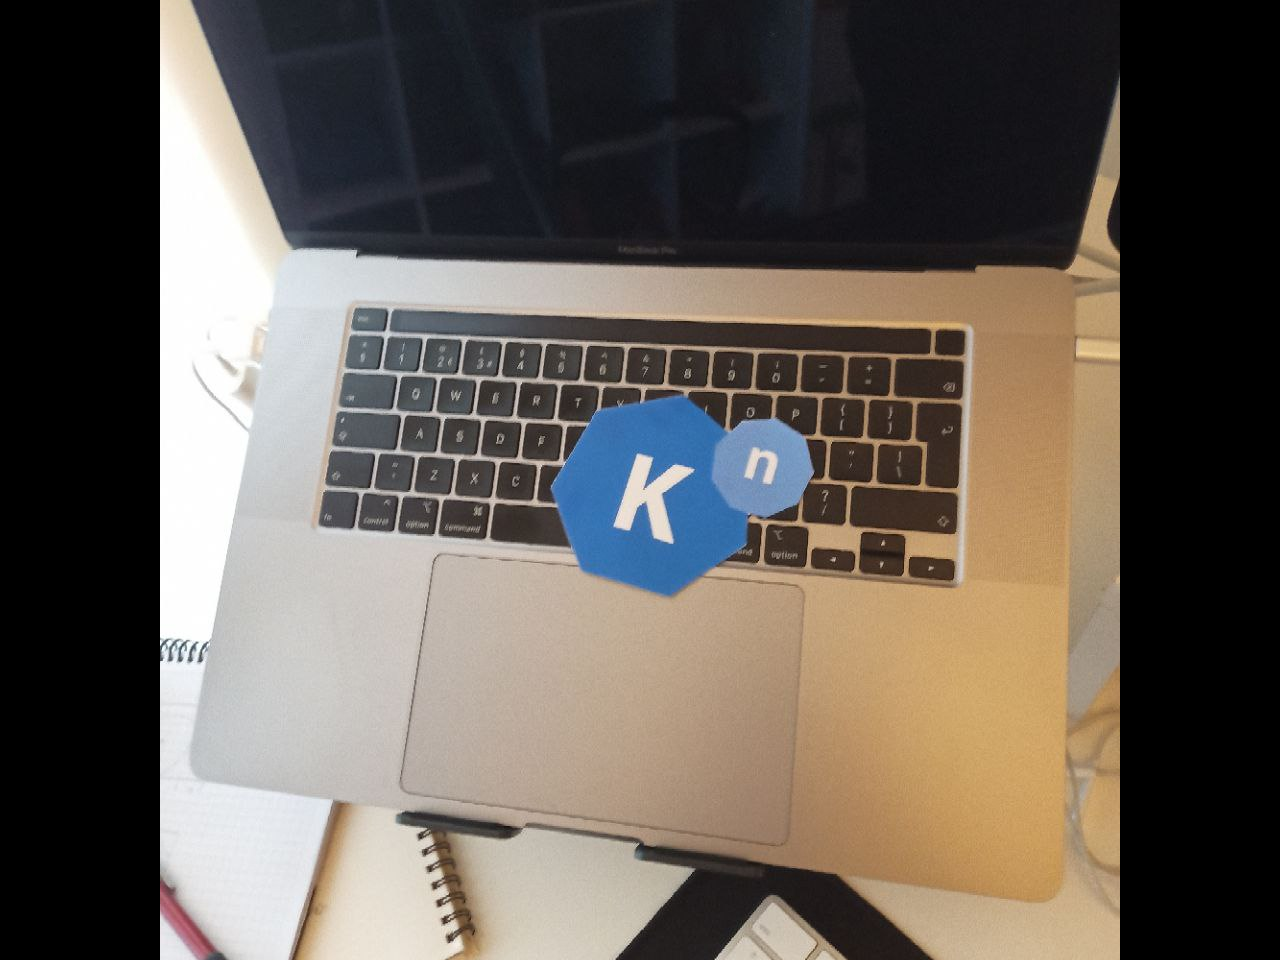knative: (550, 394, 816, 600)
